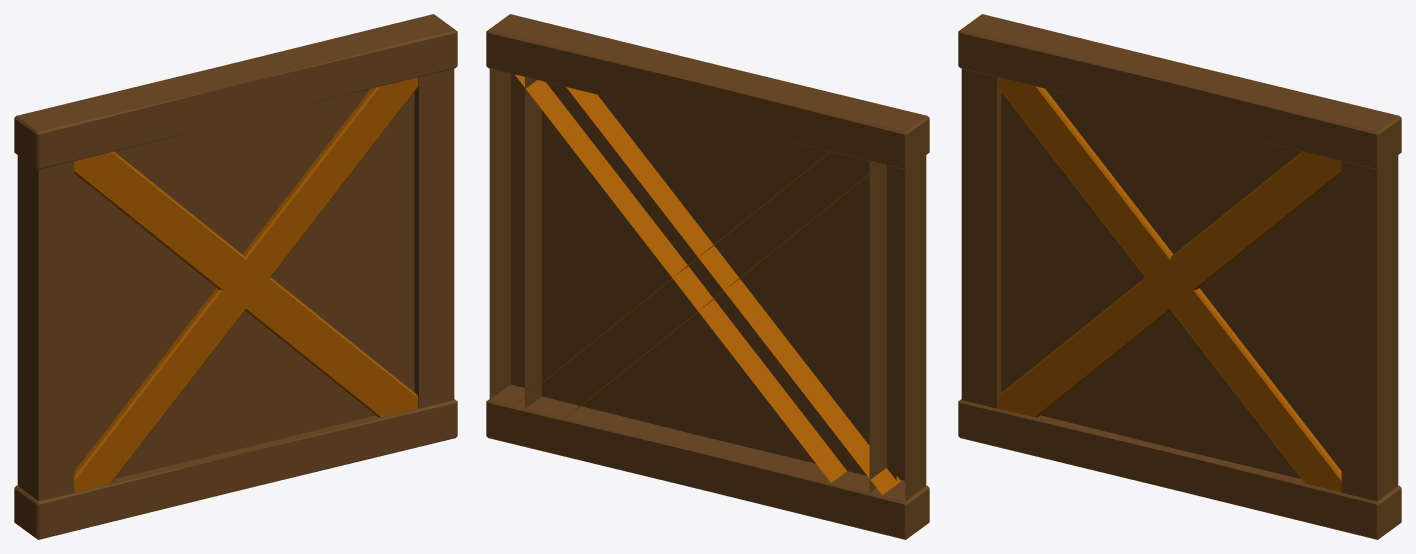
Rendered from ParedDecoracion3.fbx.
The picture shows the model from 3 angles, left to right: view 1: azimuth 30°, elevation 25°; view 2: azimuth 150°, elevation 25°; view 3: azimuth 330°, elevation 25°; orthographic projection.
Parts seen in each view (by area): view 1: polySurface1894, polySurface1892; view 2: polySurface1894, polySurface1892; view 3: polySurface1894, polySurface1892.
Boxes of the visible parts, left/top/right/bottom form: polySurface1894: left=14, top=14, right=457, bottom=539; polySurface1892: left=74, top=77, right=418, bottom=491; polySurface1894: left=486, top=14, right=929, bottom=539; polySurface1892: left=515, top=74, right=900, bottom=494; polySurface1894: left=958, top=14, right=1401, bottom=539; polySurface1892: left=997, top=77, right=1341, bottom=491.
Size of the model in its own units: 1.15 by 1.07 by 0.1151.
